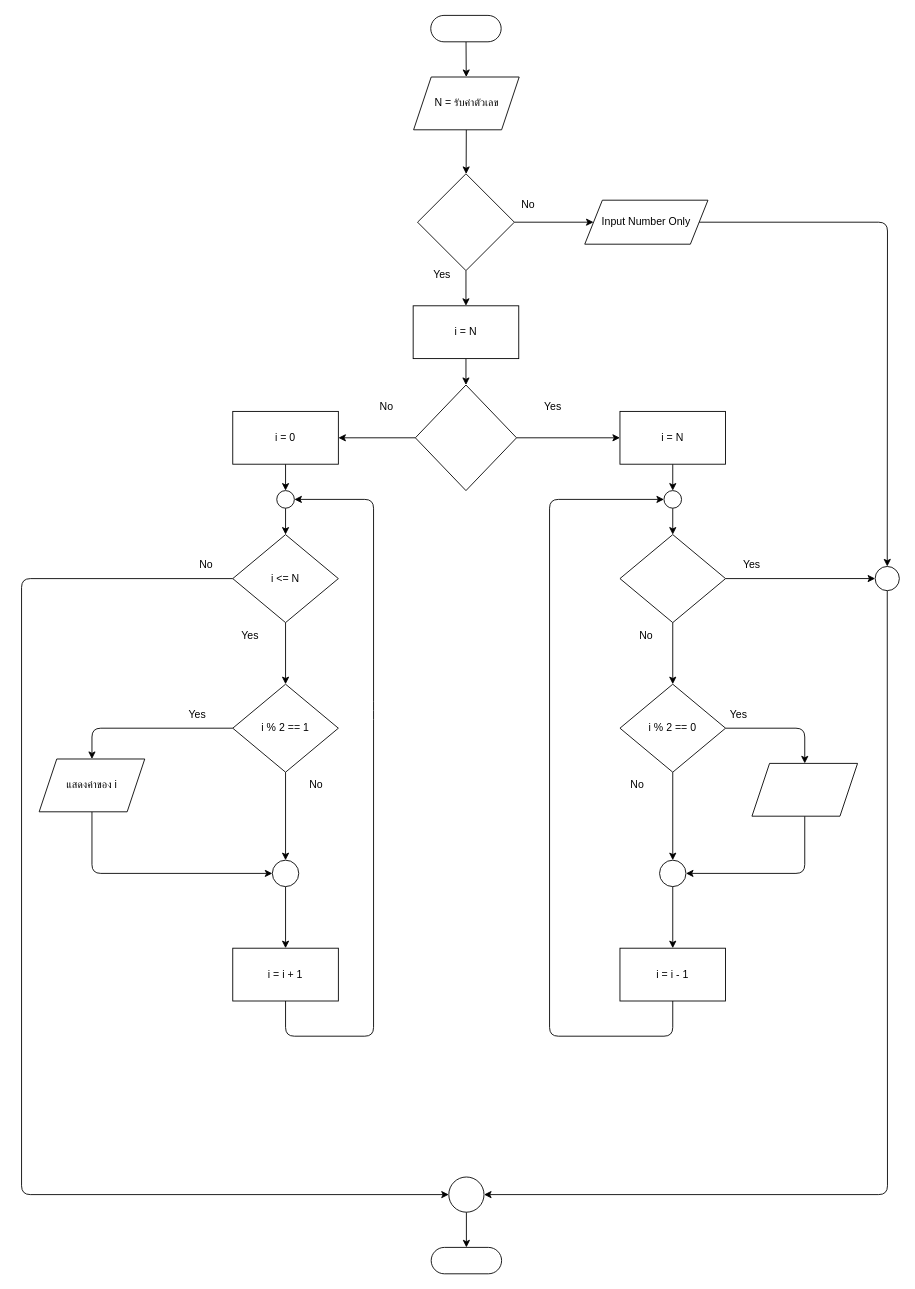
Image size: 915x1289. Some labels were removed from this diagram. Here are the shapes that lost their labels. From the top down, the centre of each, then its label:
At (x=465, y=28): "Start".
At (x=465, y=222): "ใช่ตัวเลขหรือไม่".
At (x=465, y=437): "N % 2 == 0".
At (x=672, y=578): "i >= 0".
At (x=804, y=789): "เเสดงค่าของ i".
At (x=466, y=1260): "End".
